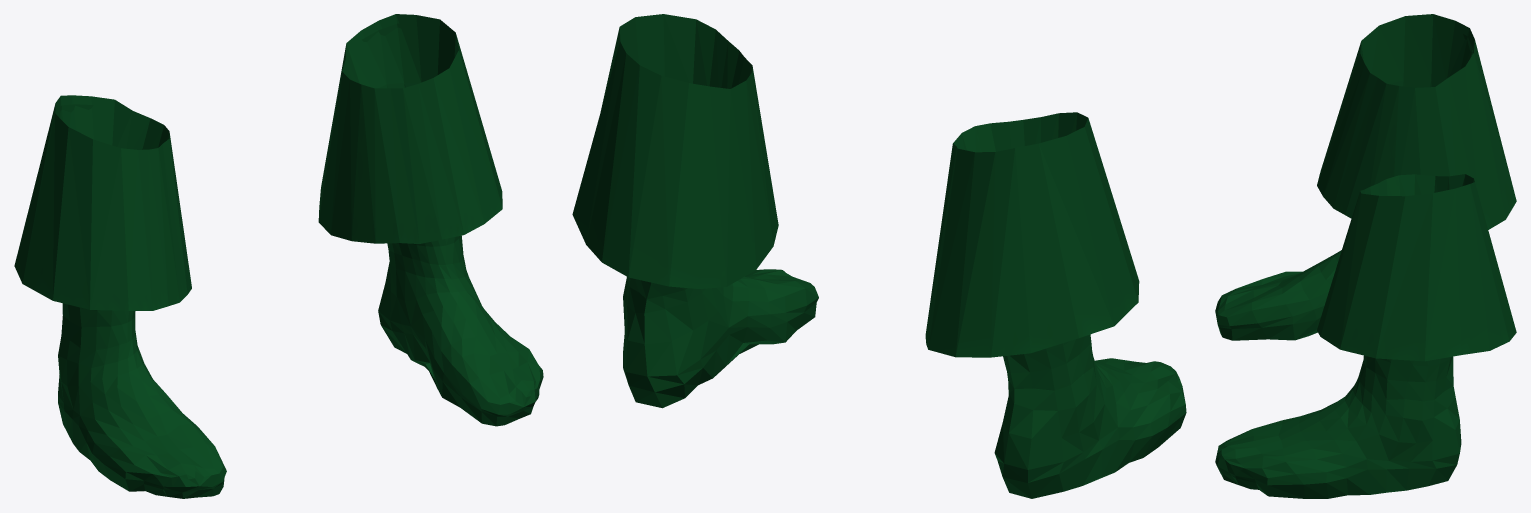
The model's file is mhw_culturalibre_heroine_boots_2.glb.
3 renders of one model, left to right at view 1: azimuth 30°, elevation 25°; view 2: azimuth 150°, elevation 25°; view 3: azimuth 270°, elevation 25°, orthographic. The views are drawn at different scales.
Parts seen in each view (by area): view 1: mhw_culturalibre_heroine_boots_2; view 2: mhw_culturalibre_heroine_boots_2; view 3: mhw_culturalibre_heroine_boots_2.
Boxes of the visible parts, x1=… form: mhw_culturalibre_heroine_boots_2: x1=14, y1=14, x2=543, y2=498; mhw_culturalibre_heroine_boots_2: x1=572, y1=14, x2=1186, y2=498; mhw_culturalibre_heroine_boots_2: x1=1215, y1=14, x2=1516, y2=498.
Bounding box in the file's own units: 0.594 × 0.3903 × 0.3545.
Materials: 1 (1 with a texture image).
